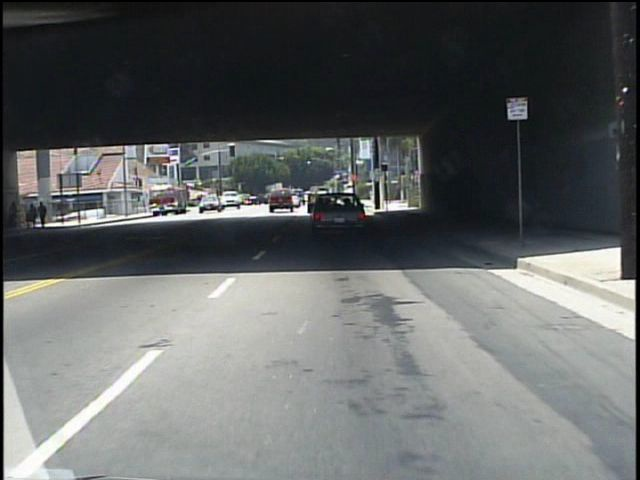person: (26, 203, 39, 231), (11, 202, 22, 234), (39, 202, 50, 231)
